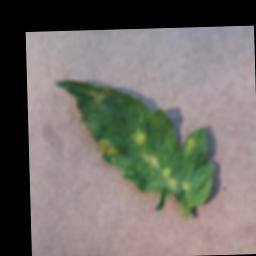Leaf_Mold: (140, 151, 178, 192), (179, 134, 196, 157), (97, 138, 117, 157), (131, 128, 147, 145)
